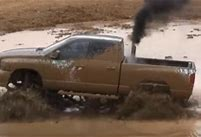smoke: (128, 1, 187, 44)
